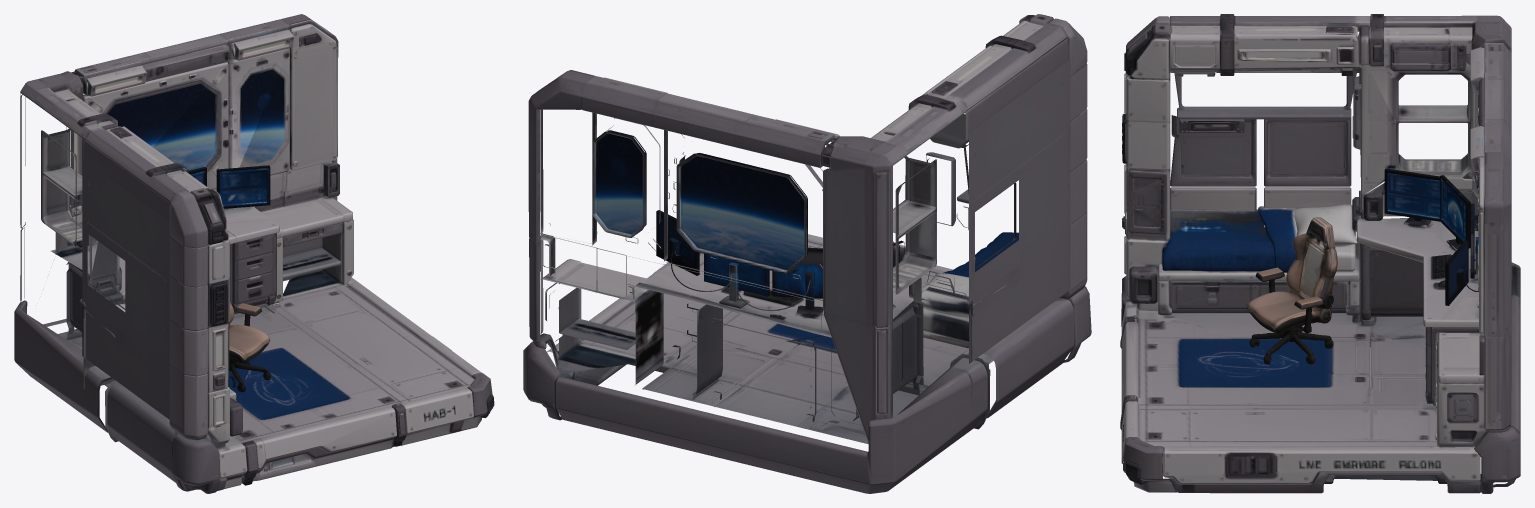
The model's file is quarters_smart.glb.
3 views of the same model, side by side, from view 1: azimuth 30°, elevation 25°; view 2: azimuth 150°, elevation 25°; view 3: azimuth 270°, elevation 25° (orthographic). The views are drawn at different scales.
Parts seen in each view (by area): view 1: Room, Windows, Chair; view 2: Room, Windows; view 3: Room, Chair.
Part boxes in pixels (x1=…): Room: x1=14, y1=14, x2=494, y2=493; Windows: x1=86, y1=50, x2=288, y2=239; Chair: x1=228, y1=302, x2=270, y2=392; Room: x1=523, y1=14, x2=1091, y2=493; Windows: x1=593, y1=130, x2=837, y2=274; Room: x1=1120, y1=14, x2=1520, y2=493; Chair: x1=1247, y1=217, x2=1337, y2=364.
Size of the model in its own units: 0.9995 by 0.8989 by 0.9995.
2 materials, 2 textured.
